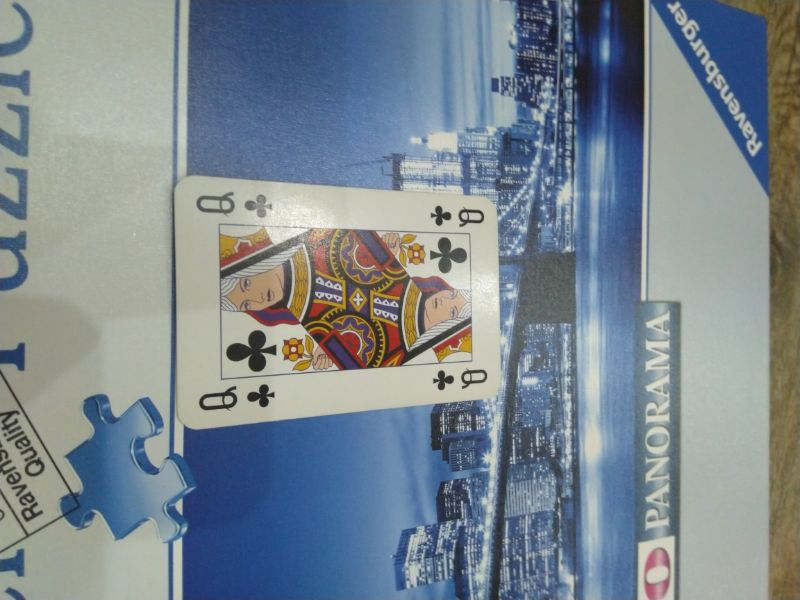Qc: (187, 183, 278, 223), (194, 379, 277, 414), (429, 198, 488, 232), (427, 363, 491, 394)
